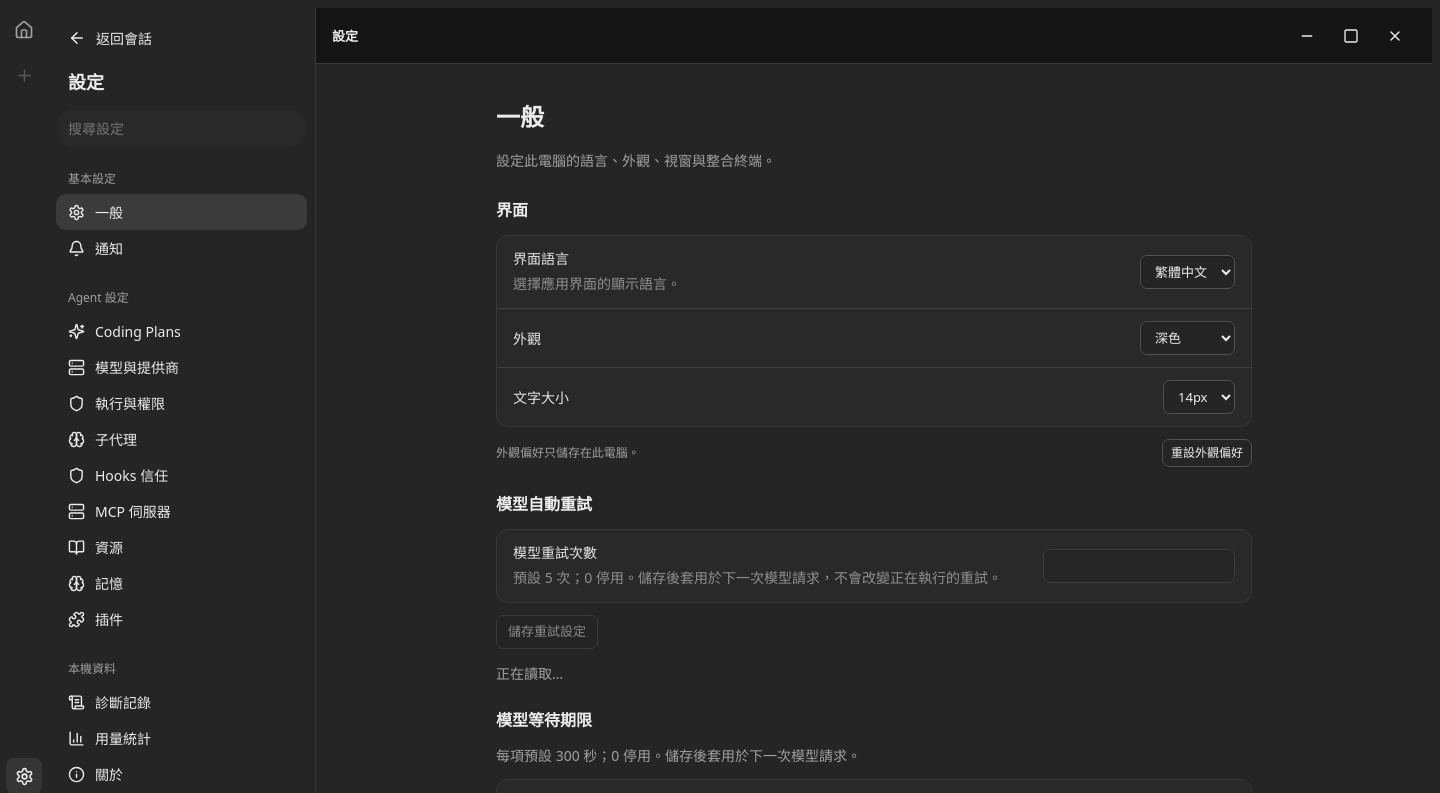
Desktop workbench shell › inserts a settings command into the existing draft without sending
The image size is (1440, 793).
Click the button "資源" at (182, 547), box [56,529,307,565]
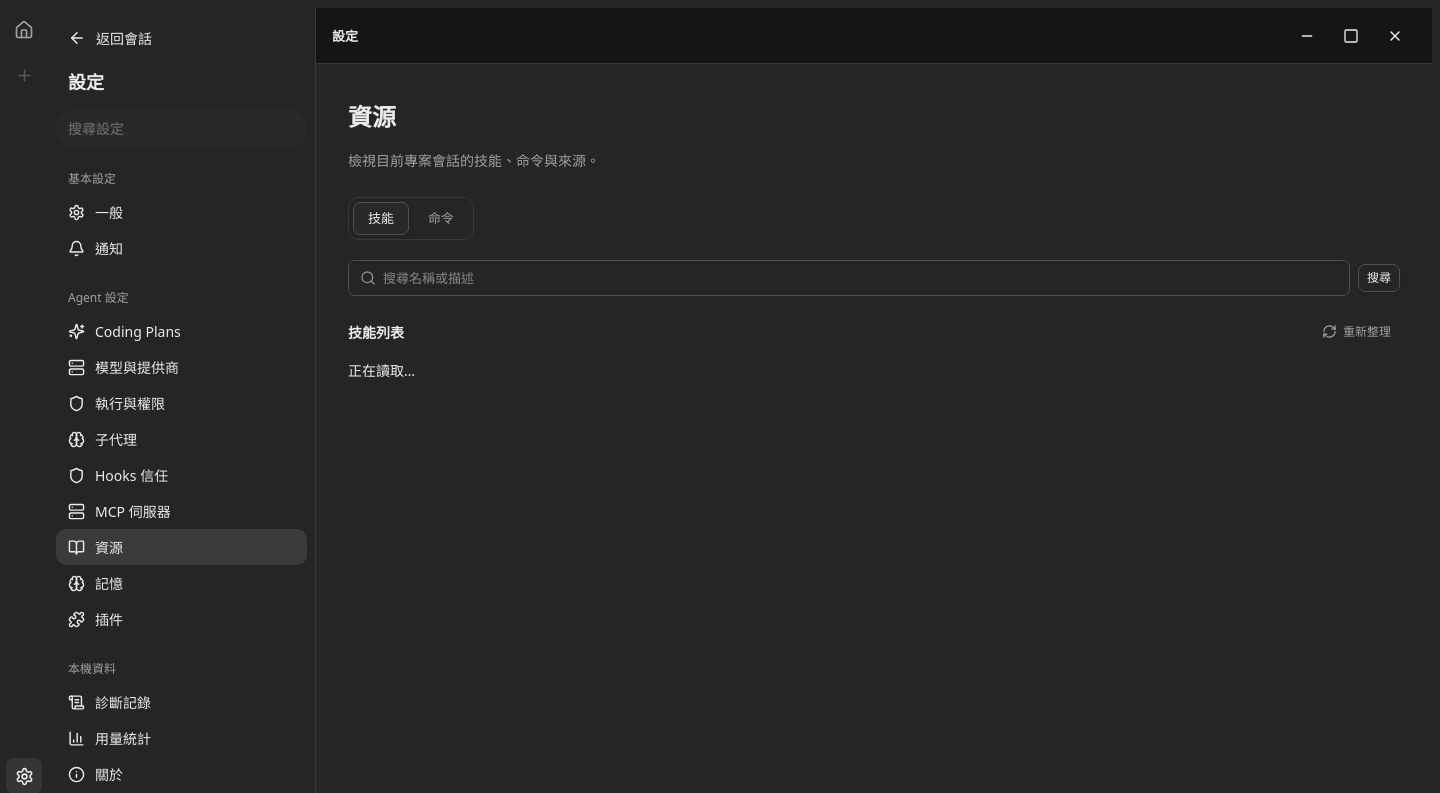
Click the tab "命令" at (441, 218), box [413,202,469,235]
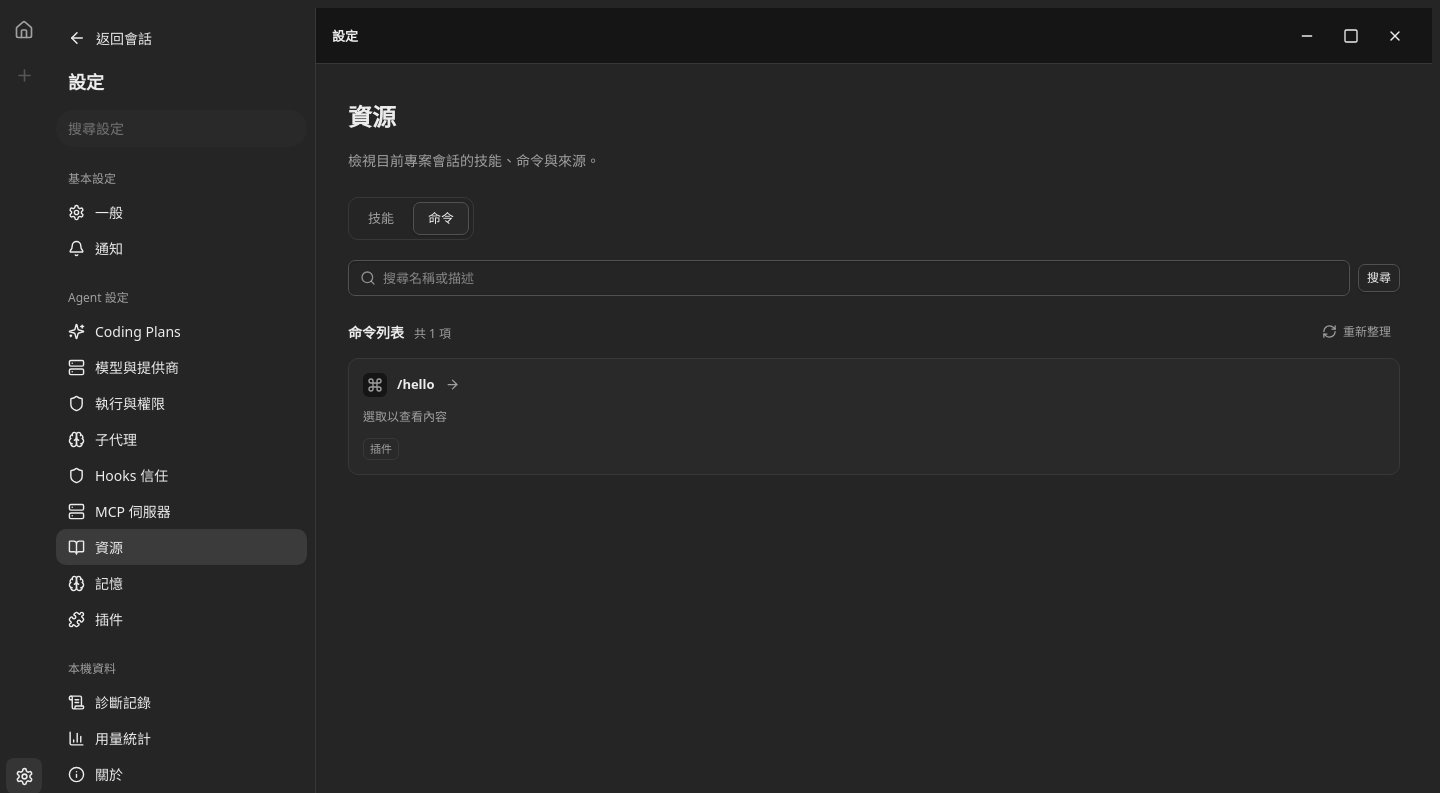
Click the button "/hello 選取以查看內容 插件" at (418, 384), box [348,358,1400,475]
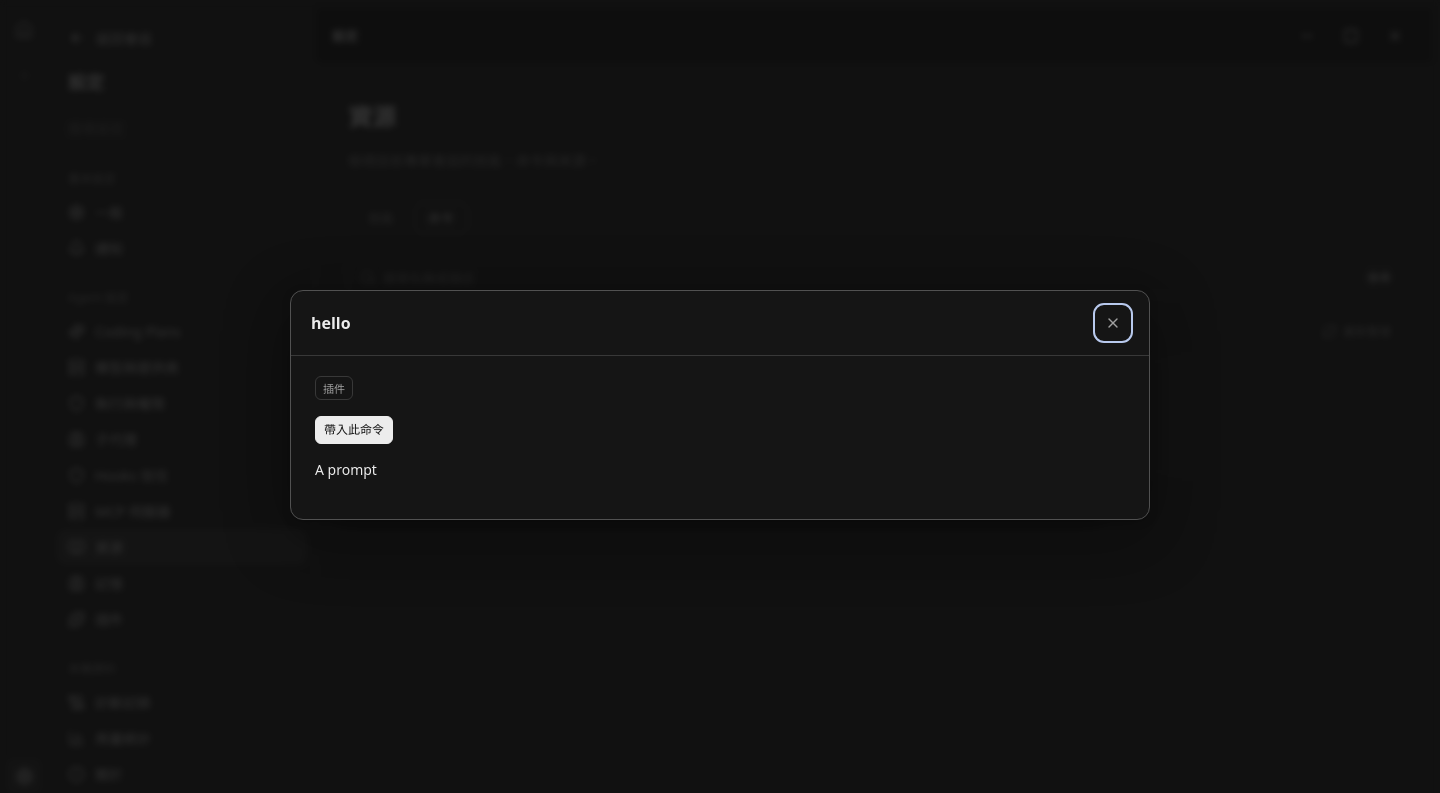
Click the button "帶入此命令" at (354, 430), box [315,416,393,444]
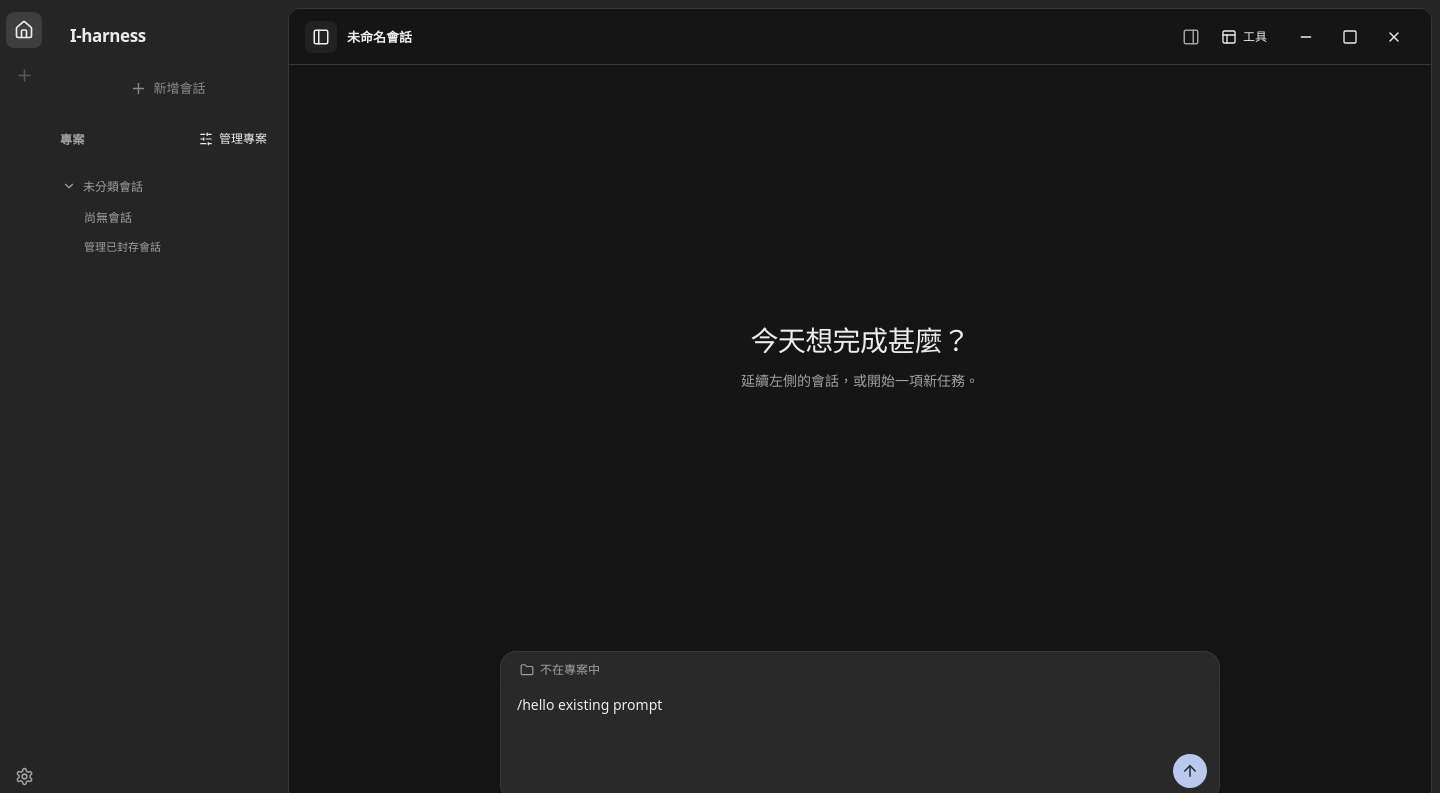
Expected: the text box named "提示" holds "/hello existing prompt", [513,692,1207,744]
